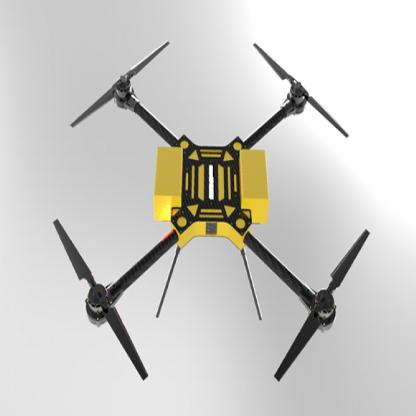drone: (53, 30, 372, 392)
